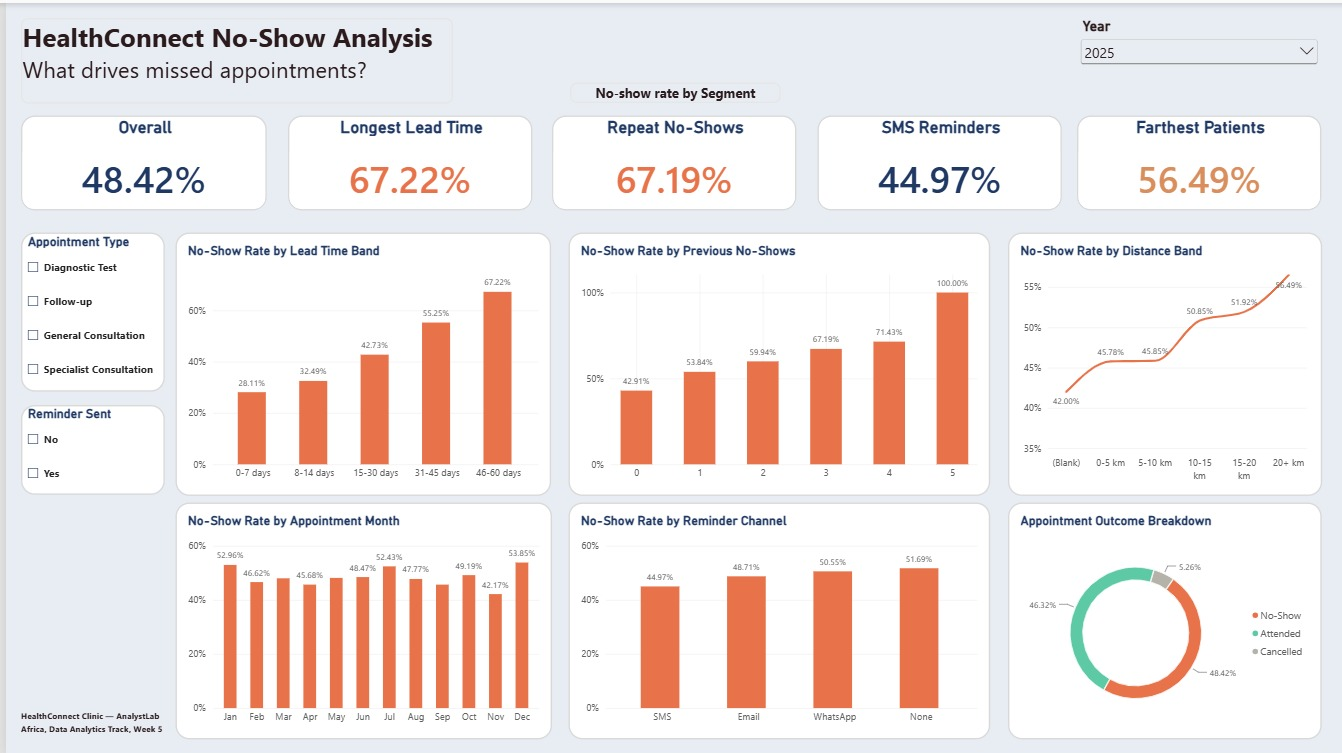

What the dashboard file says about the page in this screenshot:
{"tool":"powerbi","page":{"name":"HealthConnect No-Show Analysis","canvas":[1920,1080],"ordinal":0},"visuals":[{"type":"clusteredColumnChart","title":"No-Show Rate by Lead Time Band","fields":{"Category":["HealthConnect_Appointment_Data.Lead Time Band"],"Y":["HealthConnect_Appointment_Data.No-Show Rate"]},"box":[243,329.3,538.3,377],"z":0},{"type":"lineChart","title":"No-Show Rate by Distance Band","fields":{"Category":["HealthConnect_Appointment_Data.Distance Band"],"Y":["HealthConnect_Appointment_Data.No-Show Rate"]},"box":[1435.3,329,449.7,377],"z":1000},{"type":"clusteredColumnChart","title":"No-Show Rate by Reminder Channel","fields":{"Category":["HealthConnect_Appointment_Data.reminder_channel"],"Y":["HealthConnect_Appointment_Data.No-Show Rate"]},"box":[805.7,715.5,603.8,339.5],"z":2000},{"type":"cardVisual","title":"Overall","fields":{"Data":["HealthConnect_Appointment_Data.No-Show Rate"]},"box":[20.4,161.3,352.1,136.3],"z":3000},{"type":"cardVisual","title":"Longest Lead Time","fields":{"Data":["HealthConnect_Appointment_Data.No-Show Rate"]},"box":[404.3,161.3,350,136],"z":4000},{"type":"cardVisual","title":"Repeat No-Shows","fields":{"Data":["HealthConnect_Appointment_Data.No-Show Rate"]},"box":[781.3,161.3,350,136],"z":5000},{"type":"cardVisual","title":"SMS Reminders","fields":{"Data":["HealthConnect_Appointment_Data.No-Show Rate"]},"box":[1162.9,161.3,350,136],"z":6000},{"type":"cardVisual","title":"Farthest Patients","fields":{"Data":["HealthConnect_Appointment_Data.No-Show Rate"]},"box":[1533.1,161.3,350,136],"z":7000},{"type":"slicer","fields":{"Values":["HealthConnect_Appointment_Data.appointment_type"]},"box":[21.5,328.7,206.3,227.8],"z":8000},{"type":"textbox","box":[21.5,21.5,763,93],"z":9000},{"type":"slicer","fields":{"Values":["HealthConnect_Appointment_Data.reminder_sent"]},"box":[21.5,575.8,206.3,128.9],"z":10000},{"type":"donutChart","title":"Appointment Outcome Breakdown","fields":{"Category":["HealthConnect_Appointment_Data.appointment_outcome"],"Y":["CountNonNull(HealthConnect_Appointment_Data.appointment_id)"]},"box":[1435.3,715.5,449.1,339.5],"z":11000},{"type":"clusteredColumnChart","title":"No-Show Rate by Appointment Month","fields":{"Y":["HealthConnect_Appointment_Data.No-Show Rate"],"Category":["HealthConnect_Appointment_Data.Month short"]},"box":[242.8,715.5,539.3,339.5],"z":12000},{"type":"slicer","fields":{"Values":["HealthConnect_Appointment_Data.Appointment Year","HealthConnect_Appointment_Data.Appointment Month"]},"box":[1533.1,20.4,349.8,93.1],"z":13000},{"type":"textbox","box":[808.6,113.6,302.1,29.5],"z":14000},{"type":"textbox","box":[21.5,1003.4,206.3,51.6],"z":15000},{"type":"pivotTable","title":"Combined Risk: Lead Time × Prior No-Shows","fields":{"Rows":["HealthConnect_Appointment_Data.Lead Time Band"],"Columns":["HealthConnect_Appointment_Data.Prior No-Shows Bucket"],"Values":["HealthConnect_Appointment_Data.No-Show Rate"]},"box":[806.3,329.3,604.2,377],"z":16000},{"type":"image","box":[21.5,21.5,64.5,70.9],"z":17000}]}

Visuals, with their boxes in screenshot pixels (x1, y1, x2, y2), scaled from the page's 1920x1080 canvas onto the 1342x753 screenshot:
"No-Show Rate by Lead Time Band" clusteredColumnChart: (left=170, top=230, right=546, bottom=492)
"No-Show Rate by Distance Band" lineChart: (left=1003, top=229, right=1318, bottom=492)
"No-Show Rate by Reminder Channel" clusteredColumnChart: (left=563, top=499, right=985, bottom=736)
"Overall" cardVisual: (left=14, top=112, right=260, bottom=207)
"Longest Lead Time" cardVisual: (left=283, top=112, right=527, bottom=207)
"Repeat No-Shows" cardVisual: (left=546, top=112, right=791, bottom=207)
"SMS Reminders" cardVisual: (left=813, top=112, right=1057, bottom=207)
"Farthest Patients" cardVisual: (left=1072, top=112, right=1316, bottom=207)
slicer - HealthConnect_Appointment_Data.appointment_type: (left=15, top=229, right=159, bottom=388)
textbox: (left=15, top=15, right=548, bottom=80)
slicer - HealthConnect_Appointment_Data.reminder_sent: (left=15, top=401, right=159, bottom=491)
"Appointment Outcome Breakdown" donutChart: (left=1003, top=499, right=1317, bottom=736)
"No-Show Rate by Appointment Month" clusteredColumnChart: (left=170, top=499, right=547, bottom=736)
slicer - HealthConnect_Appointment_Data.Appointment Year x HealthConnect_Appointment_Data.Appointment Month: (left=1072, top=14, right=1316, bottom=79)
textbox: (left=565, top=79, right=776, bottom=100)
textbox: (left=15, top=700, right=159, bottom=736)
"Combined Risk: Lead Time × Prior No-Shows" pivotTable: (left=564, top=230, right=986, bottom=492)
image: (left=15, top=15, right=60, bottom=64)
